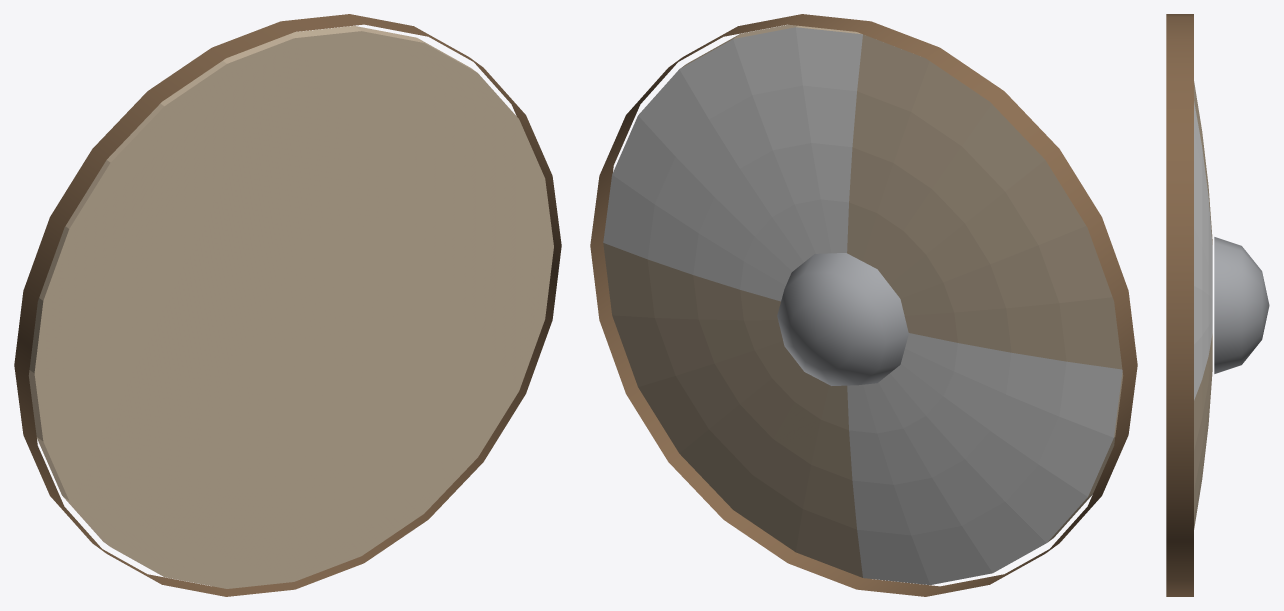
File: roundshield_sigrun.glb
3 views of the same model, side by side, from view 1: azimuth 30°, elevation 25°; view 2: azimuth 150°, elevation 25°; view 3: azimuth 270°, elevation 25° (orthographic). The views are drawn at different scales.
Parts seen in each view (by area): view 1: face, rim; view 2: face, rim, boss; view 3: rim, face, boss.
Boxes of the visible parts, box(x1,y1,x2,y2) form: face: box(28, 26, 553, 588); rim: box(14, 14, 561, 596); face: box(603, 24, 1123, 584); rim: box(590, 14, 1137, 596); boss: box(777, 253, 908, 385); rim: box(1166, 14, 1193, 596); face: box(1194, 81, 1212, 529); boss: box(1214, 237, 1269, 373).
Size of the model in its own units: 0.636 by 0.636 by 0.112.
